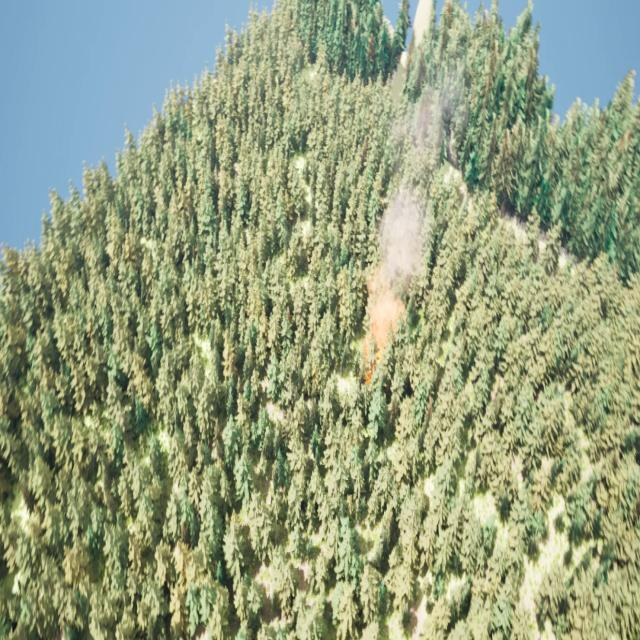smoke: (365, 76, 465, 368)
